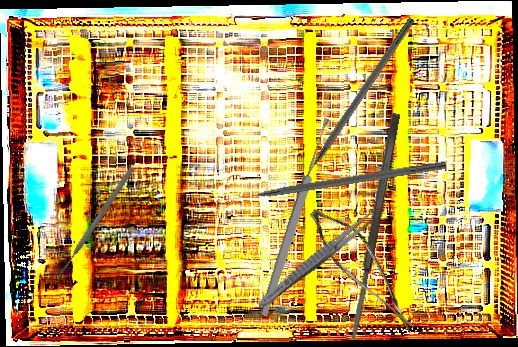Dressing Forceps: (254, 205, 381, 313)
Hook Surgical: (293, 16, 416, 192), (227, 158, 447, 204)
Micro Scissor: (291, 201, 441, 335)
Pusher: (54, 166, 136, 280)
Spatula Surgical: (346, 112, 403, 342)
Surgical Spoon: (257, 116, 334, 318)
